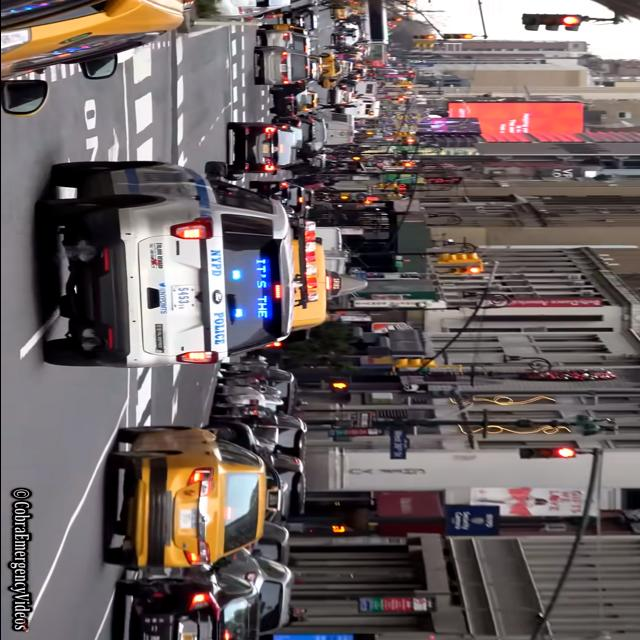emergency-vehicles: (20, 160, 328, 373)
